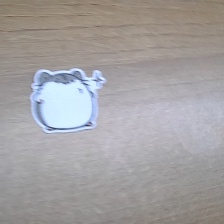mouse: (29, 66, 107, 135)
